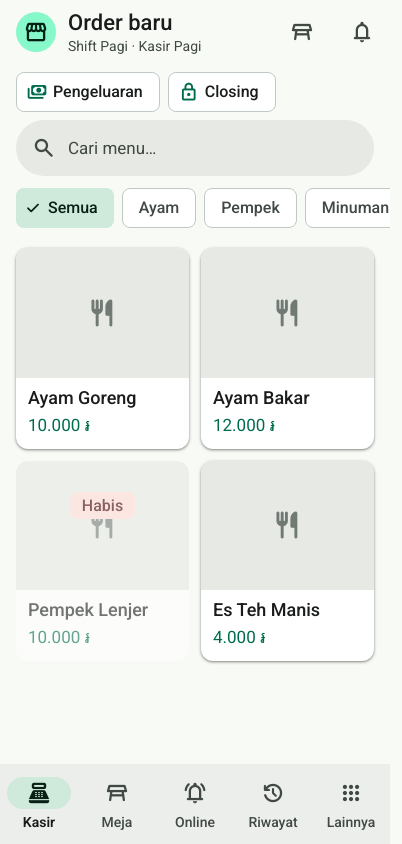
Scenario: Kasir – pilih menu › pencarian lintas bahasa & kategori
Expected: the button "Es Teh Manis 4.000 ៛" is shown, [201, 460, 374, 661]
In the search field labelled "Cari menu…": (213, 148) [68, 120, 358, 176], type "fried"
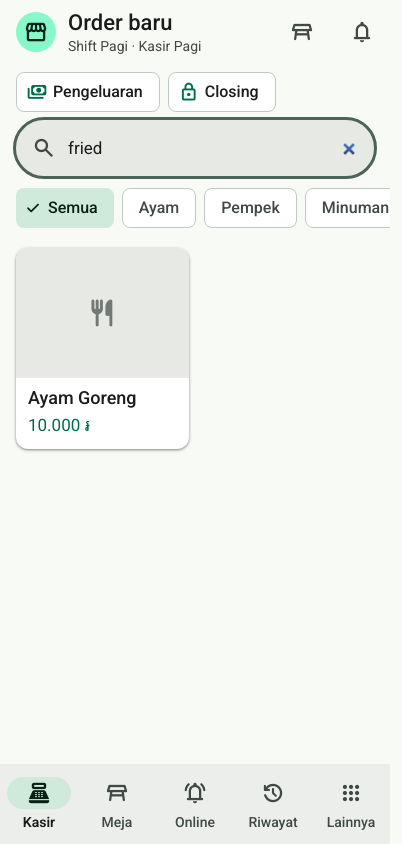
Expected: the button "Ayam Goreng 10.000 ៛" is shown, [16, 248, 189, 448]
Expected: the button "Es Teh Manis" is gone
